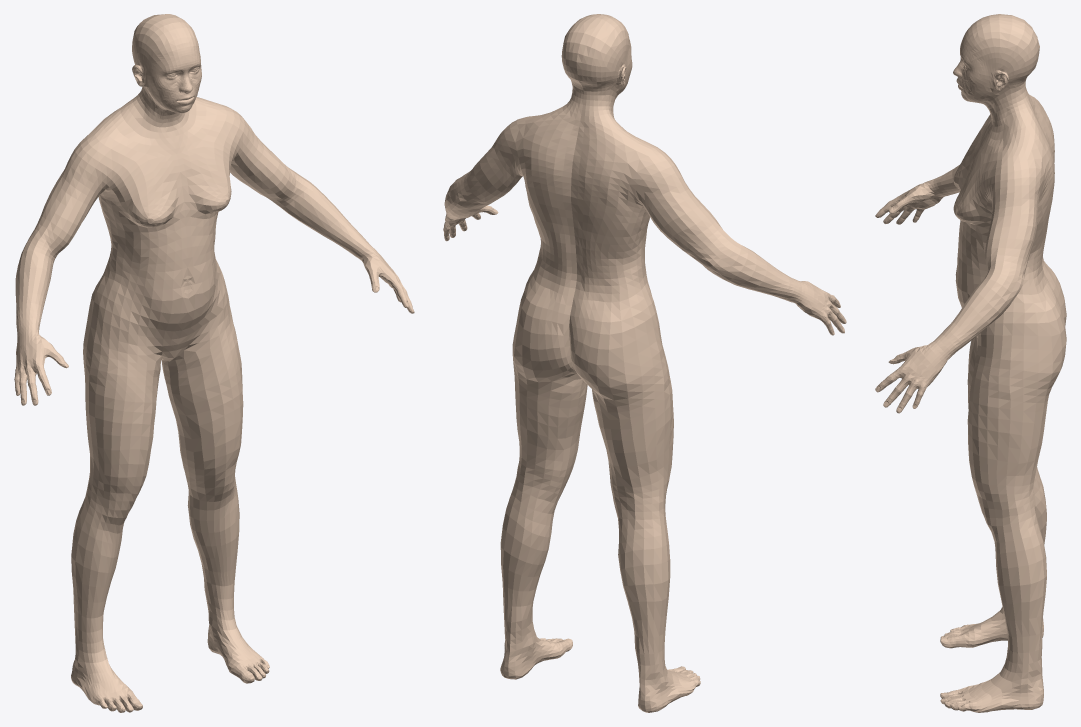
The model's file is female-mature-max-strong.glb.
3 renders of one model, left to right at view 1: azimuth 30°, elevation 25°; view 2: azimuth 150°, elevation 25°; view 3: azimuth 270°, elevation 25°, orthographic.
Visible parts, largest first — view 1: world; view 2: world; view 3: world.
Part boxes in pixels (x1=…): world: x1=14, y1=14, x2=414, y2=712; world: x1=443, y1=14, x2=846, y2=712; world: x1=875, y1=14, x2=1066, y2=712.
Bounding box in the file's own units: 1.14 × 1.83 × 0.4843.
